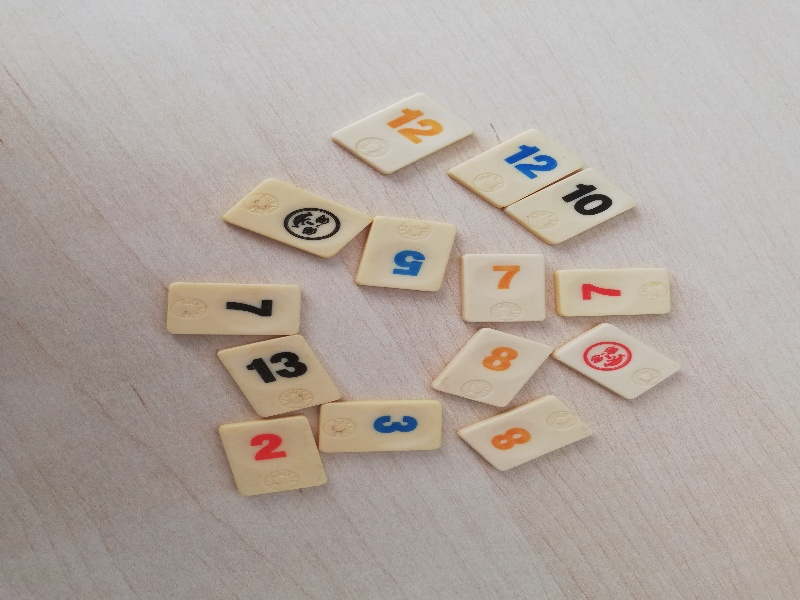10: (503, 165, 644, 249)
12: (334, 85, 479, 180), (455, 127, 580, 210)
13: (219, 337, 342, 418)
2: (221, 420, 331, 498)
3: (319, 399, 445, 454)
5: (360, 212, 457, 294)
7: (166, 282, 305, 339), (556, 263, 677, 319), (461, 254, 551, 325)
8: (450, 397, 593, 472), (432, 329, 553, 406)
joker: (223, 179, 371, 256), (554, 322, 684, 403)
